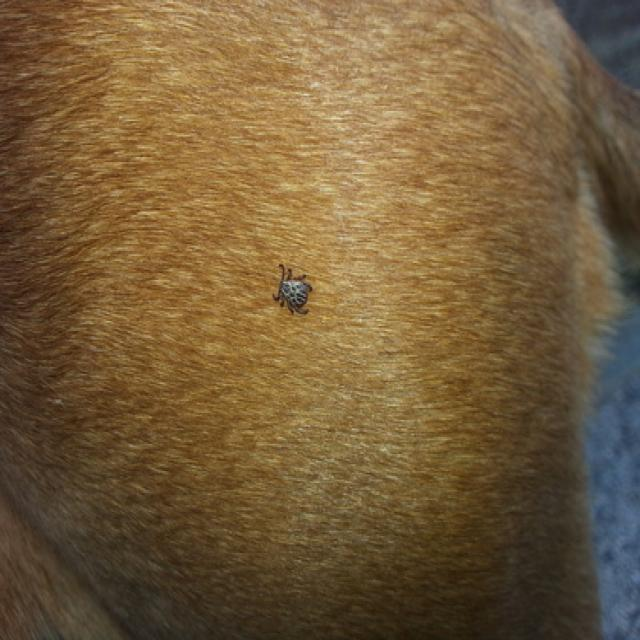Dermacentor Reticulatus-M: (271, 263, 316, 319)
